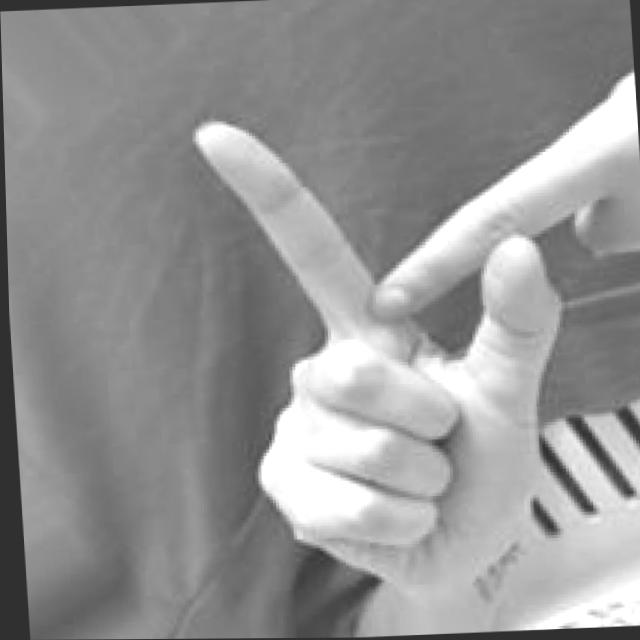J: (184, 43, 640, 639)
